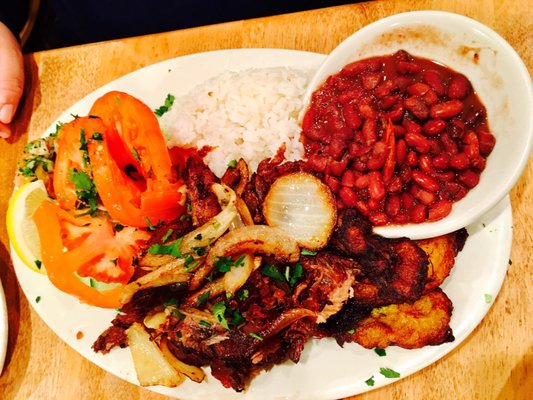soup: (12, 90, 190, 307)
sushi: (298, 9, 532, 241)
